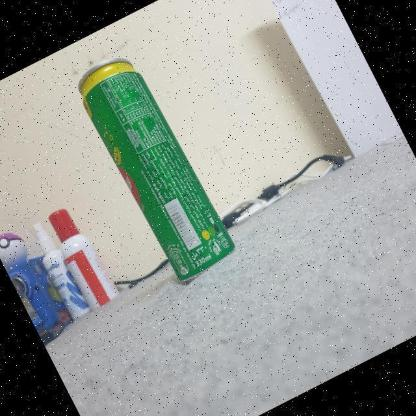Can: (78, 60, 236, 280)
